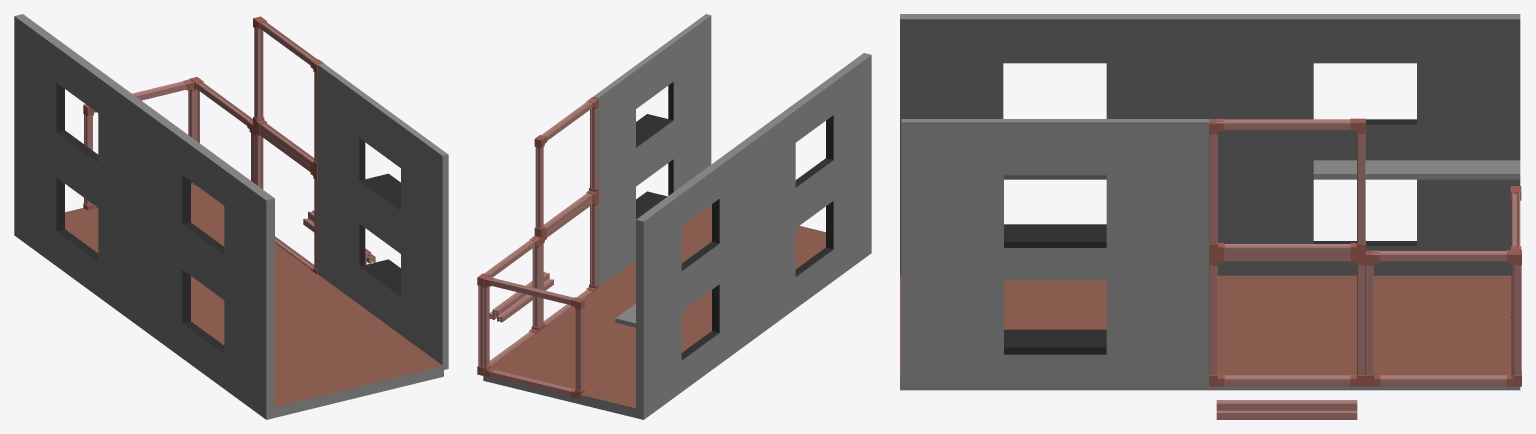
File: hata stroitsya.fbx
3 views of the same model, side by side, from view 1: azimuth 30°, elevation 25°; view 2: azimuth 150°, elevation 25°; view 3: azimuth 270°, elevation 25° (orthographic). The views are drawn at different scales.
Parts seen in each view (by area): view 1: Cube.024, Cube.033, Cube.010, Cube.015, Cube.023, Cube.009, Cube.002, Cube.032, Cube.025; view 2: Cube.024, Cube.033, Cube.032, Cube.010, Cube.027, Cube.026, Cube.016, Cube.008, Cube, Cube.015, Cube.023, Cube.009 (+4 smaller); view 3: Cube.024, Cube.033, Cube.036, Cube.015, Cube.023, Cube.035, Cube.001, Cube.009, Cube.017, Cube.007, Cube.018, Cube.002 (+4 smaller).
Boxes of the visible parts, <box> form: Cube.024: <box>14,14,443,419</box>; Cube.033: <box>317,63,448,369</box>; Cube.010: <box>254,28,263,118</box>; Cube.015: <box>260,21,319,65</box>; Cube.023: <box>196,82,252,125</box>; Cube.009: <box>260,122,314,166</box>; Cube.002: <box>254,135,263,189</box>; Cube.032: <box>132,80,191,100</box>; Cube.025: <box>188,90,197,140</box>; Cube.024: <box>483,53,871,419</box>; Cube.033: <box>593,14,711,286</box>; Cube.032: <box>486,277,573,305</box>; Cube.010: <box>535,147,543,229</box>; Cube.027: <box>575,308,583,391</box>; Cube.026: <box>491,369,573,396</box>; Cube.016: <box>532,246,540,327</box>; Cube.008: <box>590,108,597,189</box>; Cube: <box>590,204,597,285</box>; Cube.015: <box>542,99,594,140</box>; Cube.023: <box>484,237,537,277</box>; Cube.009: <box>543,192,592,232</box>; Cube.024: <box>900,14,1520,390</box>; Cube.033: <box>901,119,1209,385</box>; Cube.036: <box>1216,400,1357,410</box>; Cube.015: <box>1216,119,1350,130</box>; Cube.023: <box>1372,251,1506,261</box>; Cube.035: <box>1216,410,1357,419</box>; Cube.001: <box>1224,375,1350,385</box>; Cube.009: <box>1224,244,1350,254</box>; Cube.017: <box>1380,375,1506,385</box>; Cube.007: <box>1224,254,1350,261</box>; Cube.018: <box>1513,265,1521,375</box>; Cube.002: <box>1357,265,1365,375</box>.
Bounding box in the file's own units: 1700 × 1505 × 3131.
